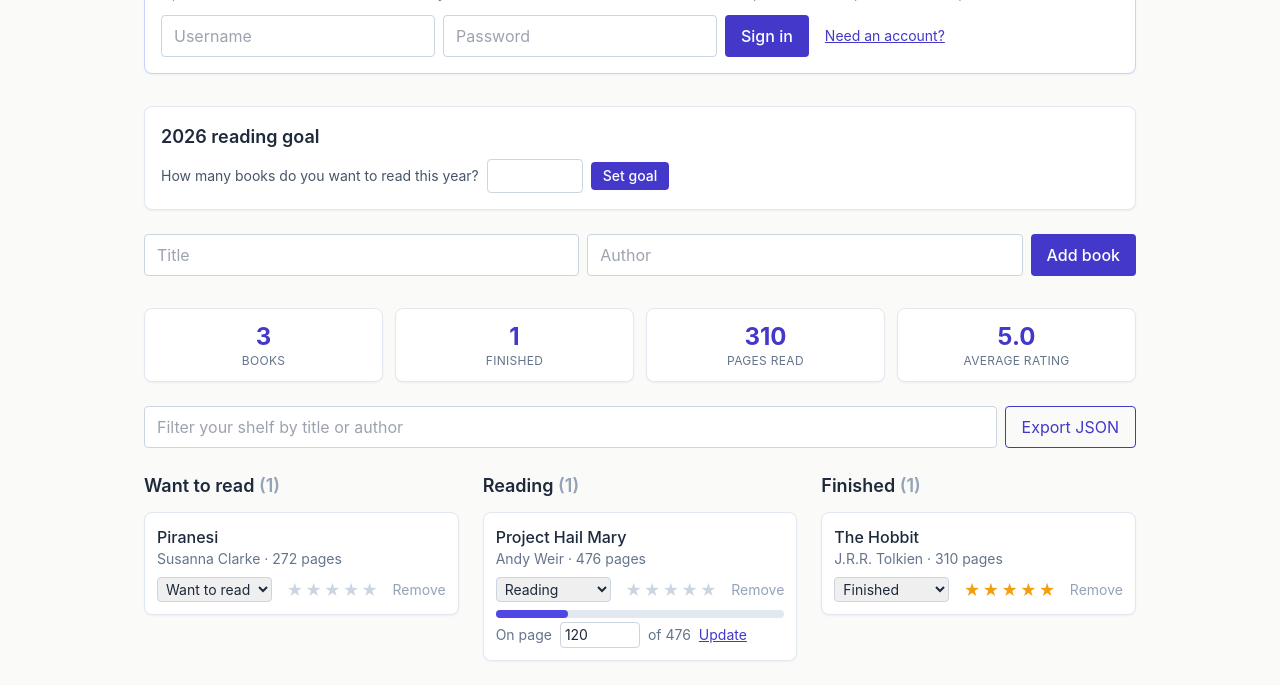
Test: moves a book between shelves
(page scrolled)
Select "Finished" in the dropdown named "Status of Piranesi": (214, 590) [157,577,272,602]
(page scrolled)
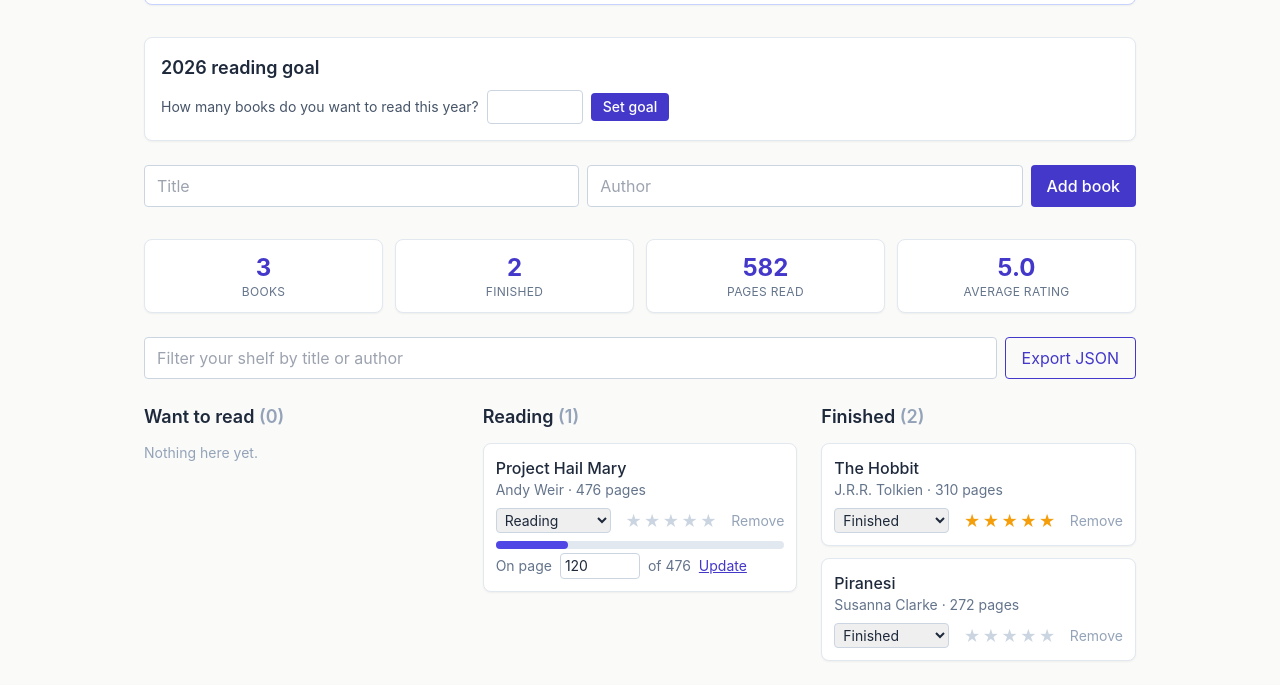
Result: the dropdown named "Status of Piranesi" shows "Finished" at [834,623,949,648]
